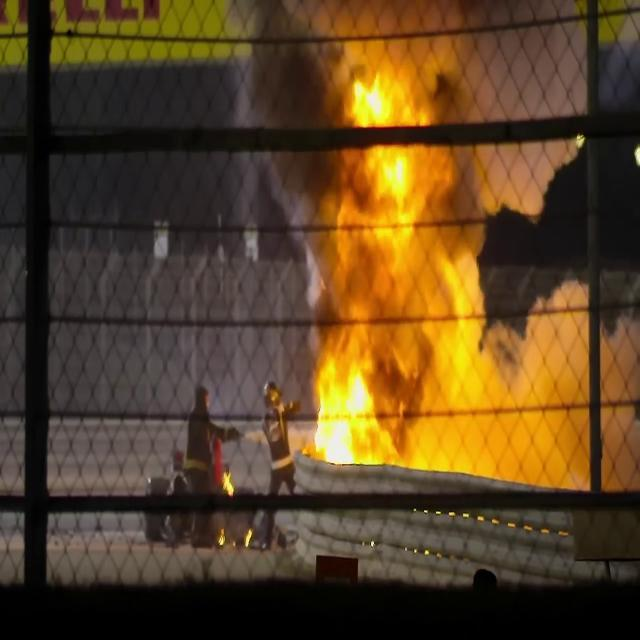Fire: (297, 48, 626, 476)
